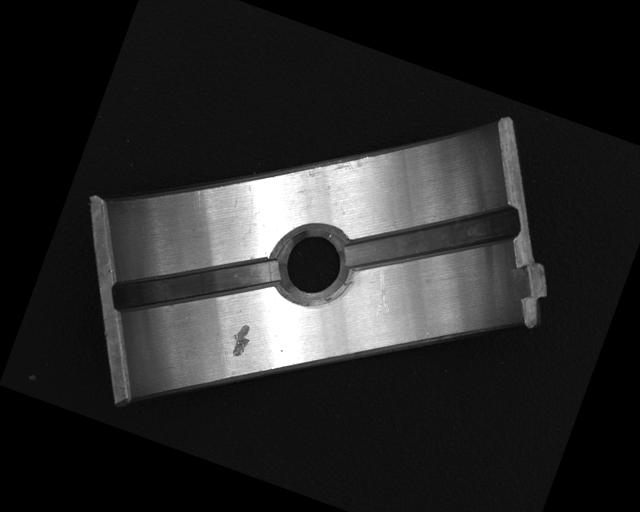bruise: (223, 319, 255, 361)
gap: (342, 158, 524, 318), (106, 213, 284, 359)
hole: (268, 219, 358, 315)
nick: (364, 268, 401, 319)
